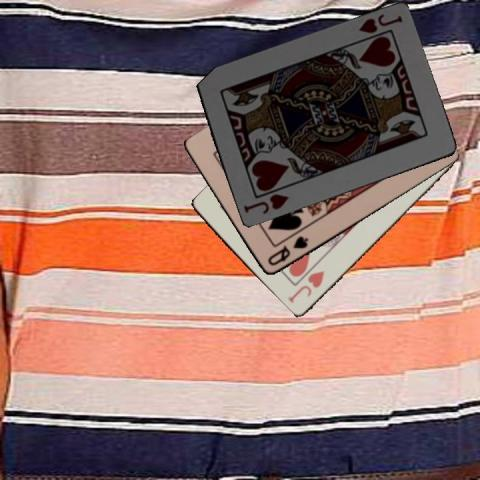Jh: (285, 268, 326, 305), (240, 191, 290, 216), (355, 12, 404, 36)
Qs: (264, 233, 310, 268)
